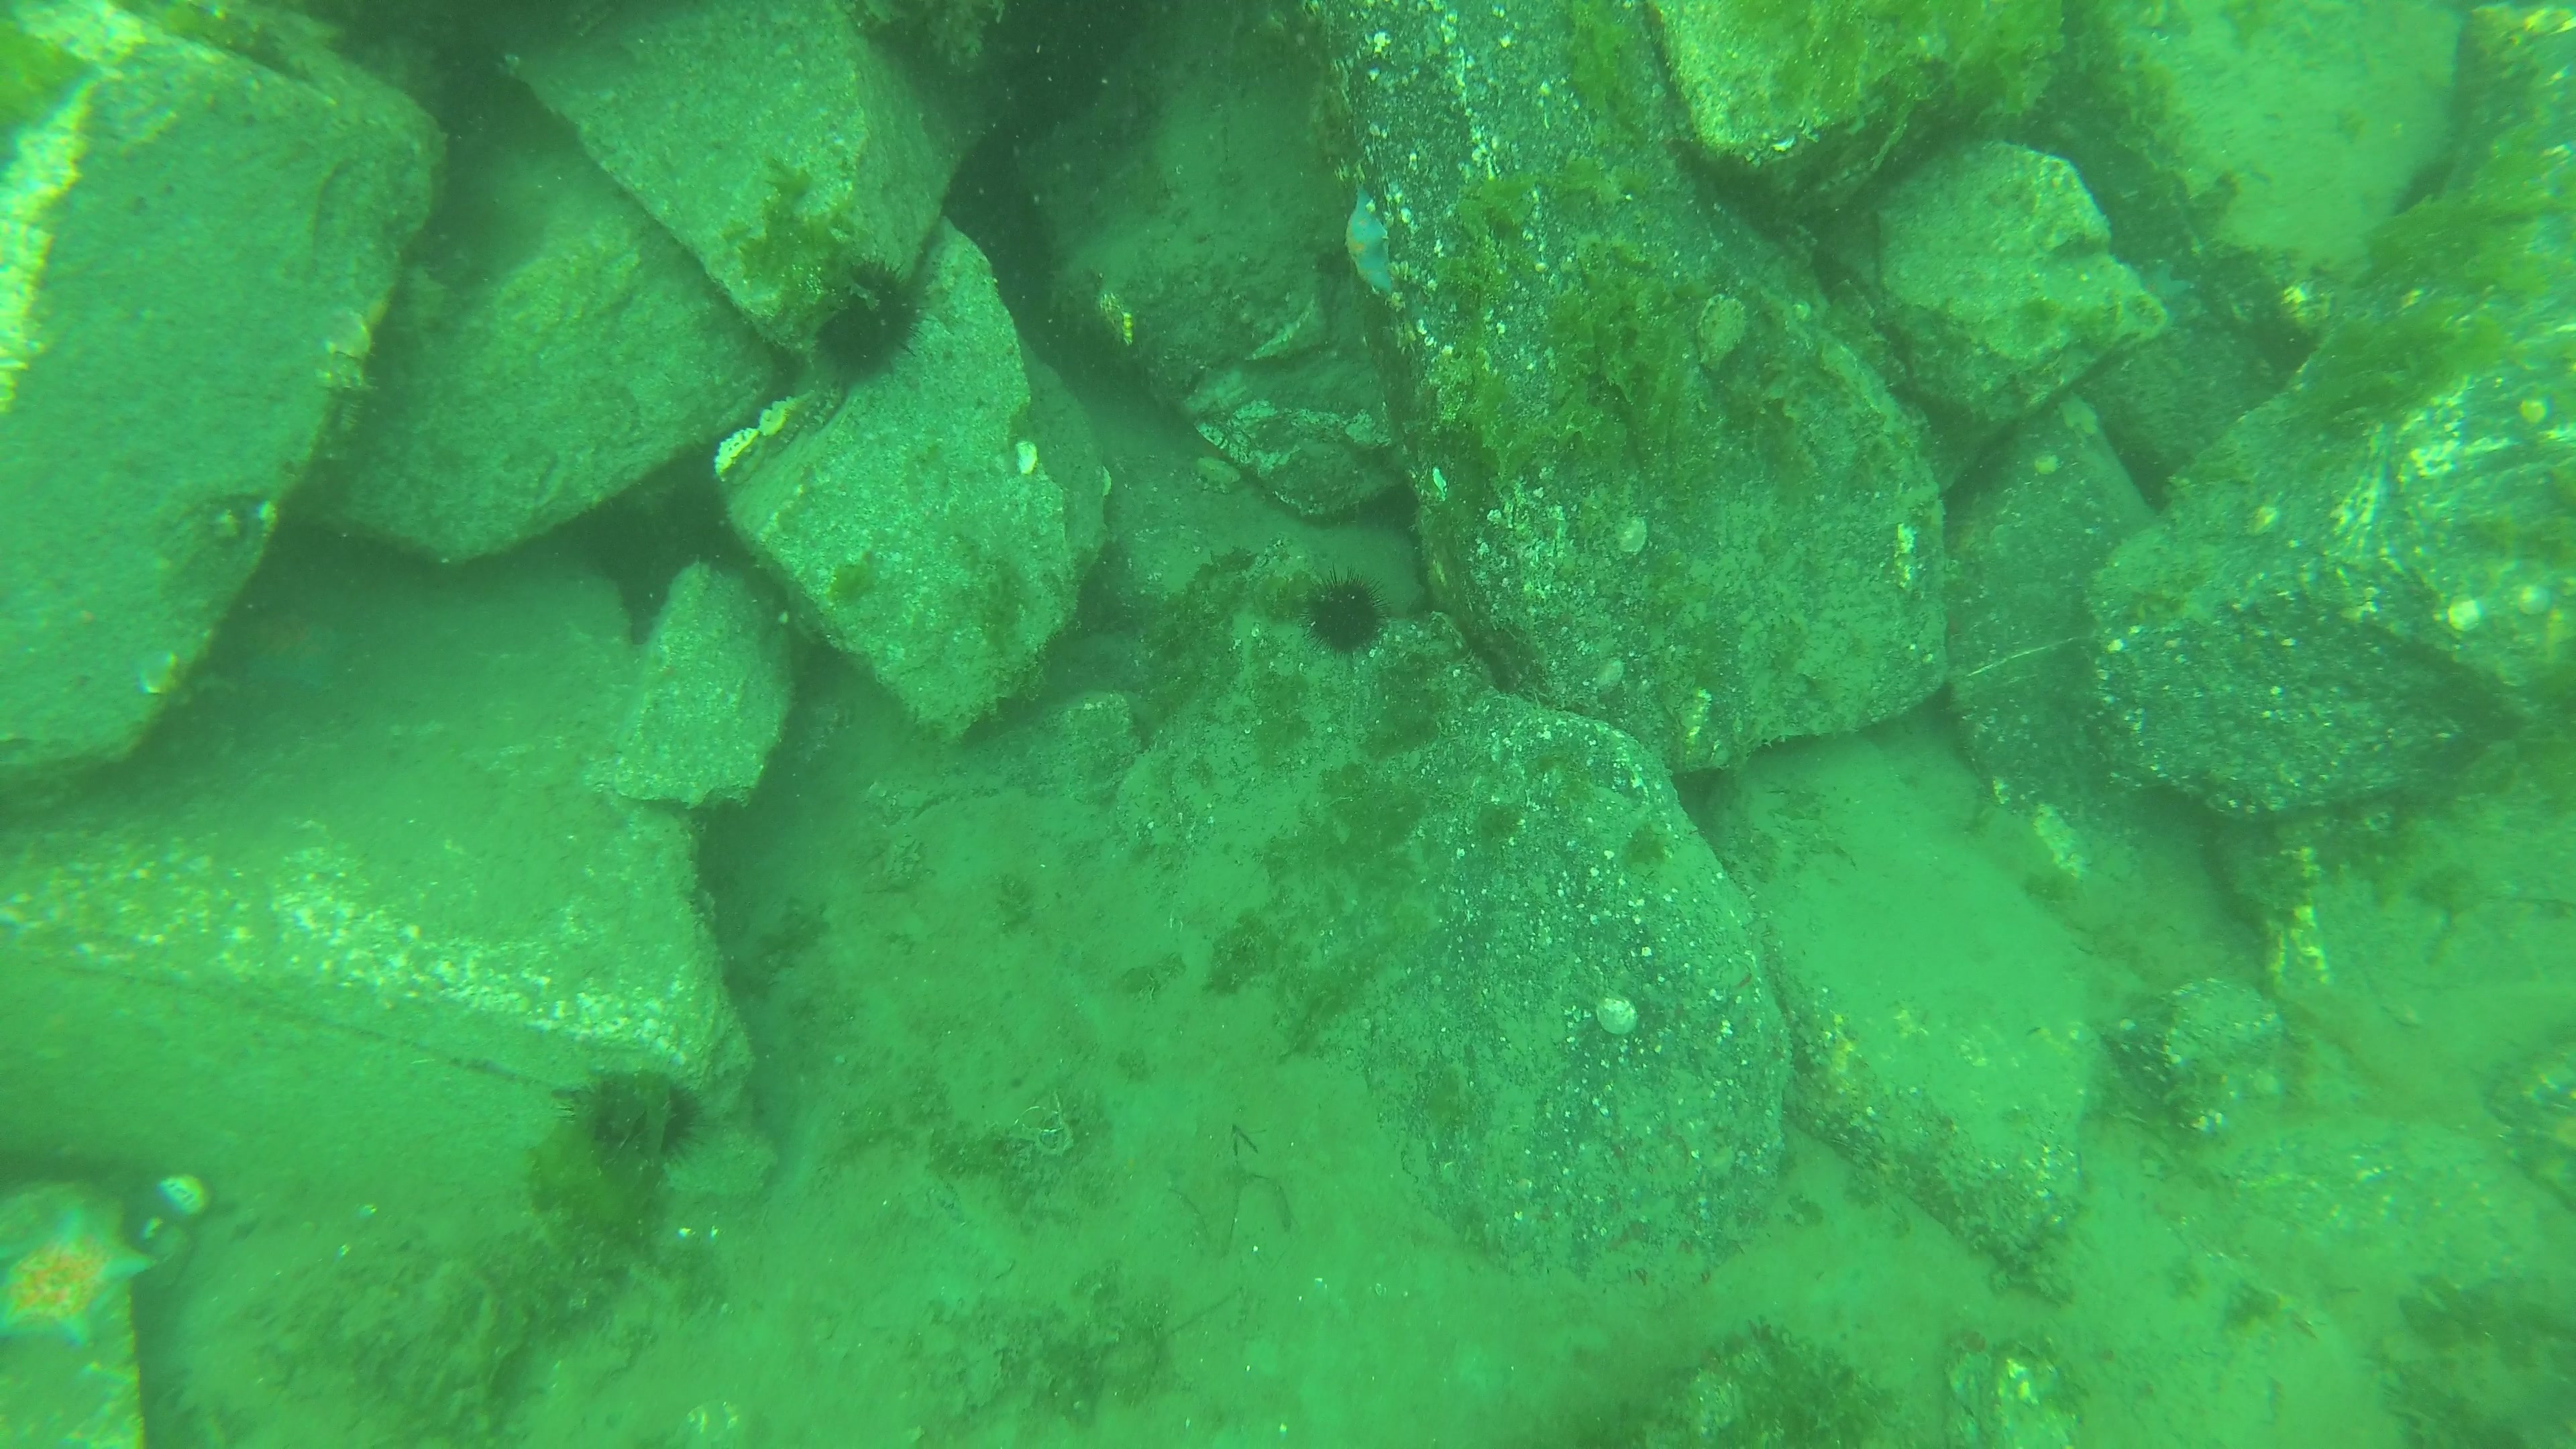echinus: (557, 1056, 713, 1175), (816, 255, 927, 380), (1300, 557, 1398, 665)
starfish: (2, 1200, 161, 1350), (1341, 179, 1399, 301)
